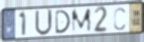1: (18, 11, 29, 37)
2: (93, 5, 109, 35)
C: (113, 6, 127, 32)
D: (54, 9, 72, 36)
M: (71, 7, 93, 35)
U: (34, 9, 54, 38)
